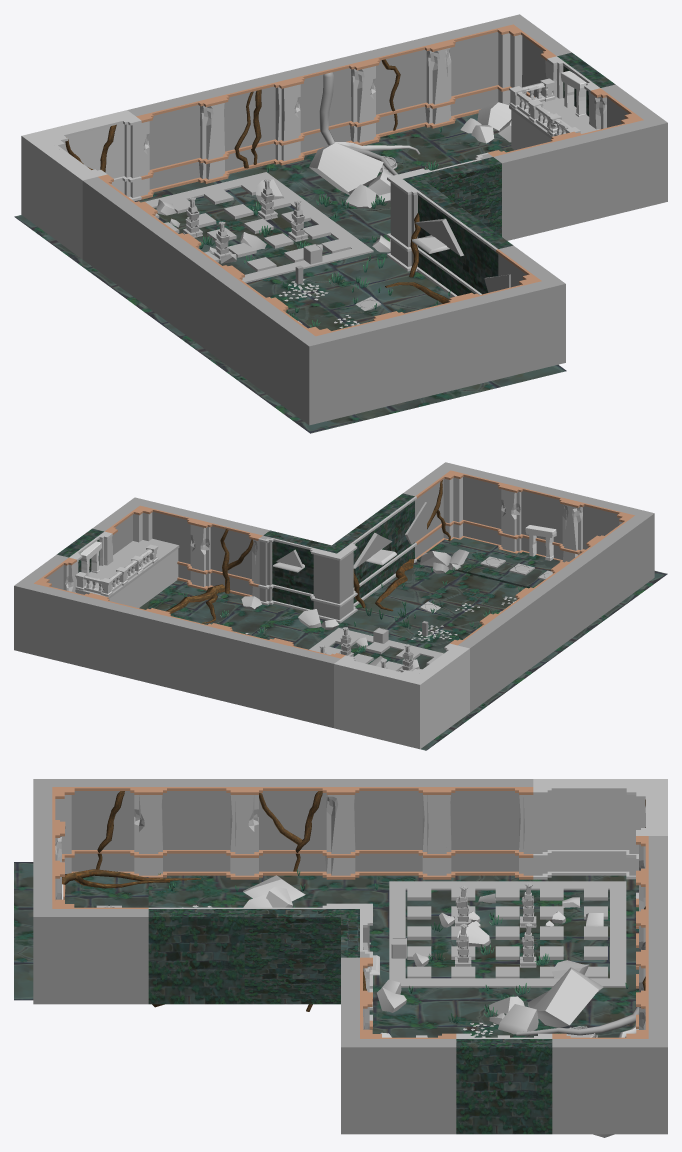
Rendered from MOD_Floor1Room4Present_FinalVersion.fbx.
The picture shows the model from 3 angles, top to bottom: view 1: azimuth 30°, elevation 25°; view 2: azimuth 150°, elevation 25°; view 3: azimuth 270°, elevation 25°; orthographic projection. The views are drawn at different scales.
Visible parts, largest first — view 1: riwa:sol5, mur_clean_passé83, polySurface259, polySurface255, polySurface254, mur_porte14, mur_pillier_detruit217, mur_pillier_detruit218, mur_pillier_detruit215, mur_sans_trou20, polySurface258, mur_pillier_detruit216 (+20 smaller); view 2: riwa:sol5, mur_clean_passé83, polySurface251, polySurface258, mur_pillier_detruit216, mur_pillier_detruit217, mur_sans_trou20, mur_pillier_detruit215, polySurface255, mur_pillier_detruit218, mur_porte14, polySurface252 (+24 smaller); view 3: riwa:sol5, polySurface257, polySurface260, mur_clean_passé83, polySurface256, polySurface252, mur_sans_trou5, mur_sans_trou18, mur_sans_trou19, mur_clean_passé79, mur_sans_trou17, mur_pillier_detruit214 (+20 smaller).
Part boxes in pixels (box(x1,y1,x2,y2)): riwa:sol5: box(14, 113, 566, 433); mur_clean_passé83: box(386, 152, 501, 296); polySurface259: box(563, 118, 667, 223); polySurface255: box(461, 279, 565, 384); polySurface254: box(309, 314, 399, 425); mur_porte14: box(385, 295, 475, 403); mur_pillier_detruit217: box(127, 91, 217, 199); mur_pillier_detruit218: box(488, 134, 577, 240); mur_pillier_detruit215: box(354, 36, 443, 144); mur_sans_trou20: box(203, 73, 292, 180); polySurface258: box(429, 14, 519, 125); mur_pillier_detruit216: box(278, 55, 368, 162); riwa:sol5: box(139, 561, 667, 750); mur_clean_passé83: box(258, 519, 381, 623); polySurface251: box(334, 655, 419, 749); polySurface258: box(14, 582, 99, 667); mur_pillier_detruit216: box(149, 610, 222, 697); mur_pillier_detruit217: box(272, 640, 345, 727); mur_sans_trou20: box(211, 625, 283, 712); mur_pillier_detruit215: box(88, 595, 160, 682); polySurface255: box(446, 462, 518, 551); mur_pillier_detruit218: box(197, 515, 269, 598); mur_porte14: box(507, 480, 580, 562); polySurface252: box(415, 643, 469, 748); riwa:sol5: box(14, 862, 638, 1037); polySurface257: box(552, 1033, 667, 1134); polySurface260: box(341, 1033, 456, 1134); mur_clean_passé83: box(244, 903, 372, 1020); polySurface256: box(33, 904, 148, 1004); polySurface252: box(533, 779, 667, 879); mur_sans_trou5: box(456, 1033, 552, 1134); mur_sans_trou18: box(437, 779, 533, 879); mur_sans_trou19: box(148, 779, 244, 879); mur_clean_passé79: box(148, 907, 244, 1004); mur_sans_trou17: box(341, 779, 436, 879); mur_pillier_detruit214: box(244, 779, 340, 879).
Bounding box in the file's own units: 33.5 × 6.22 × 34.01.
